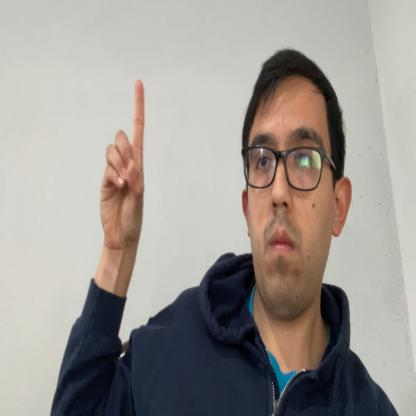D: (101, 80, 145, 253)
